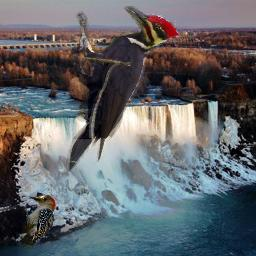Woodpecker: (66, 6, 180, 172), (21, 192, 63, 249)
